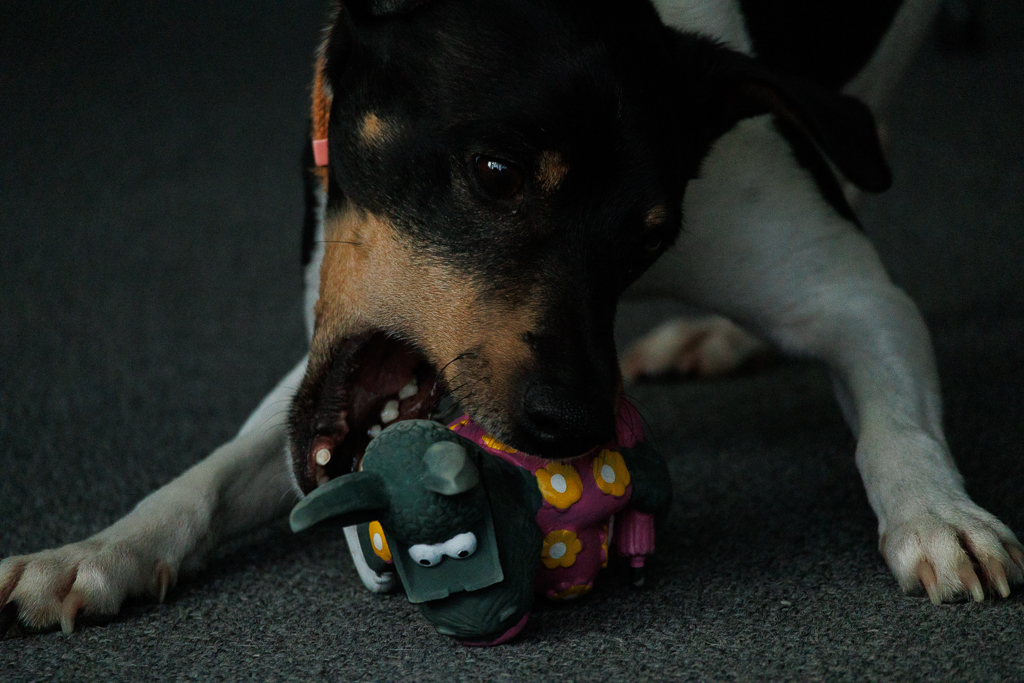Dog: (0, 0, 1024, 641)
Humanoid: (276, 390, 691, 648)
